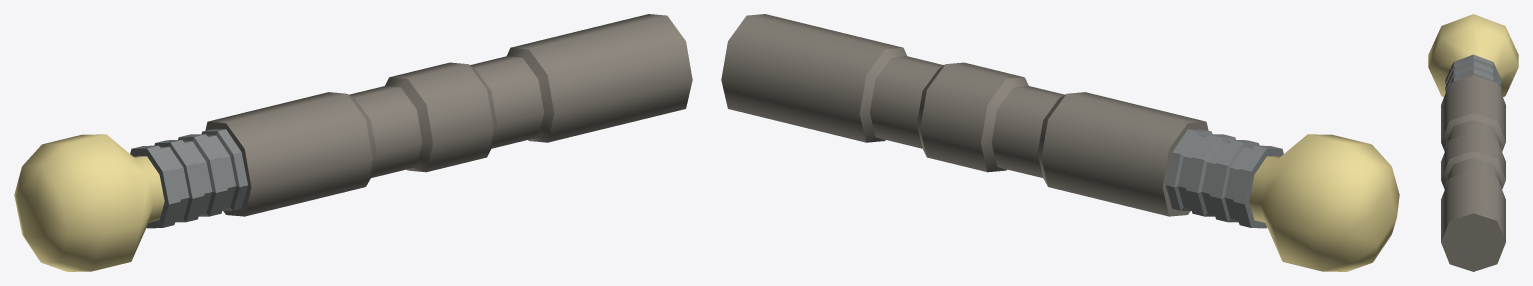
The model's file is Lamp_Wall.fbx.
3 views of the same model, side by side, from view 1: azimuth 30°, elevation 25°; view 2: azimuth 150°, elevation 25°; view 3: azimuth 270°, elevation 25° (orthographic). The views are drawn at different scales.
Visible parts, largest first — view 1: Wall_Lamp_Base, Bulb, Bulb_Base; view 2: Wall_Lamp_Base, Bulb, Bulb_Base; view 3: Wall_Lamp_Base, Bulb, Bulb_Base.
Part boxes in pixels (x1=…): Wall_Lamp_Base: x1=205, y1=14, x2=692, y2=216; Bulb: x1=14, y1=134, x2=164, y2=271; Bulb_Base: x1=130, y1=129, x2=247, y2=228; Wall_Lamp_Base: x1=721, y1=14, x2=1208, y2=216; Bulb: x1=1249, y1=134, x2=1399, y2=271; Bulb_Base: x1=1166, y1=129, x2=1283, y2=228; Wall_Lamp_Base: x1=1441, y1=75, x2=1505, y2=271; Bulb: x1=1428, y1=14, x2=1518, y2=96; Bulb_Base: x1=1445, y1=54, x2=1501, y2=91.
Size of the model in its own units: 102 by 19.53 by 19.53.
